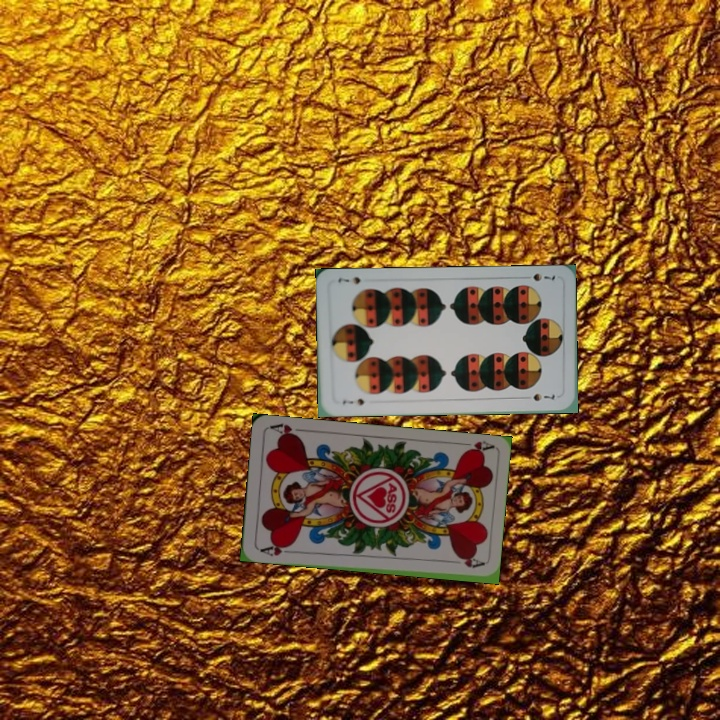HA: (454, 437, 495, 457), (256, 540, 296, 559)
S7: (519, 270, 558, 283), (338, 395, 366, 408)
